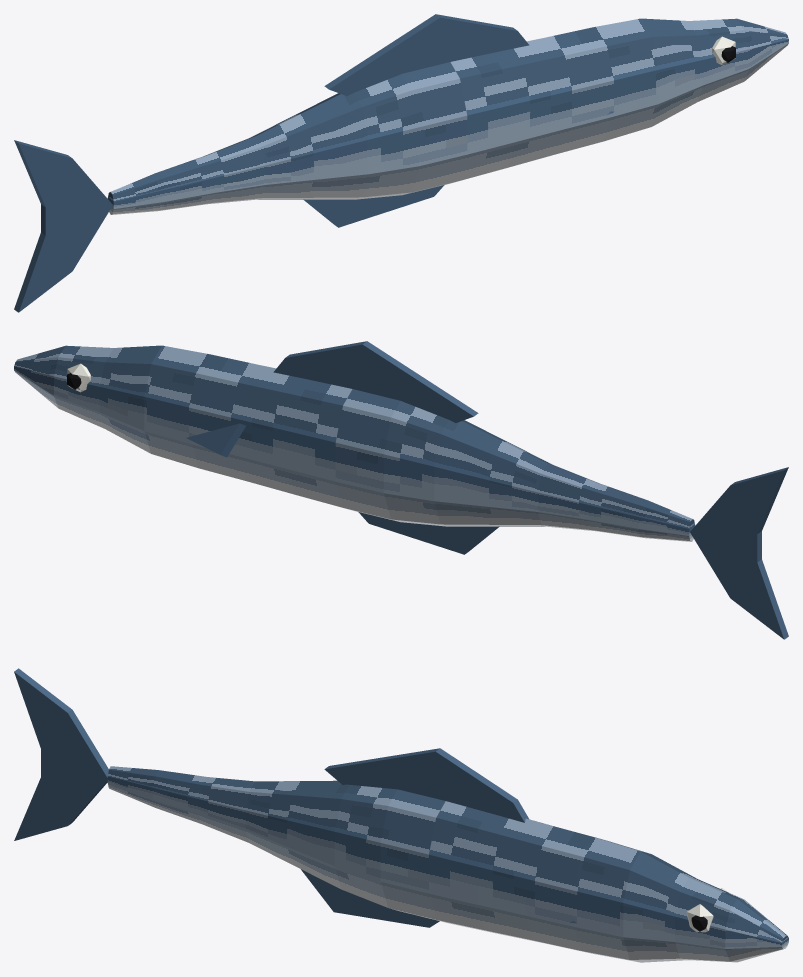
File: spanish_mackerel.glb
3 views of the same model, one above another, from view 1: azimuth 30°, elevation 25°; view 2: azimuth 150°, elevation 25°; view 3: azimuth 330°, elevation 25° (orthographic).
Parts seen in each view (by area): view 1: fish_spanish_mackerel; view 2: fish_spanish_mackerel; view 3: fish_spanish_mackerel.
Boxes of the visible parts, x1=… form: fish_spanish_mackerel: x1=14, y1=14, x2=788, y2=312; fish_spanish_mackerel: x1=14, y1=341, x2=788, y2=639; fish_spanish_mackerel: x1=14, y1=668, x2=788, y2=962.
Bounding box in the file's own units: 1.14 × 0.2725 × 0.1267.
Materials: 4 (1 with a texture image).
